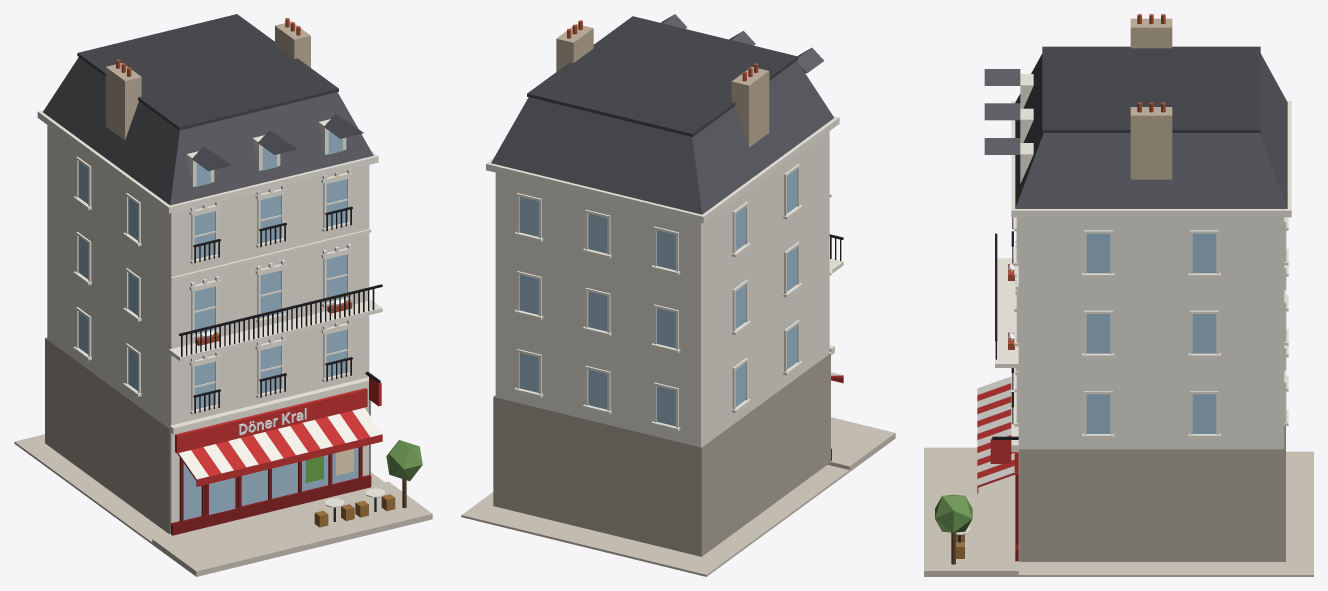
File: Dukkan_doner_kral_Hafif.fbx
3 views of the same model, side by side, from view 1: azimuth 30°, elevation 25°; view 2: azimuth 150°, elevation 25°; view 3: azimuth 270°, elevation 25° (orthographic). The views are drawn at different scales.
Visible parts, largest first — view 1: Dukkan_doner_kral_Hafif; view 2: Dukkan_doner_kral_Hafif; view 3: Dukkan_doner_kral_Hafif.
Boxes of the visible parts, x1,y1,x2,y2 form: Dukkan_doner_kral_Hafif: (14,14,432,576); Dukkan_doner_kral_Hafif: (461,14,895,576); Dukkan_doner_kral_Hafif: (924,14,1313,576).
Bounding box in the file's own units: 9.9 × 17.02 × 13.18.
